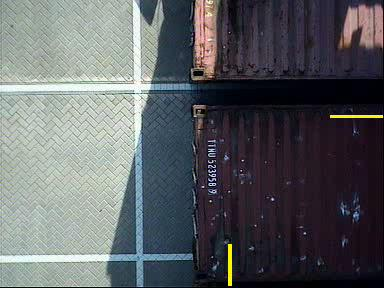groundmarker_2: (110, 80, 166, 112), (111, 231, 167, 263)
